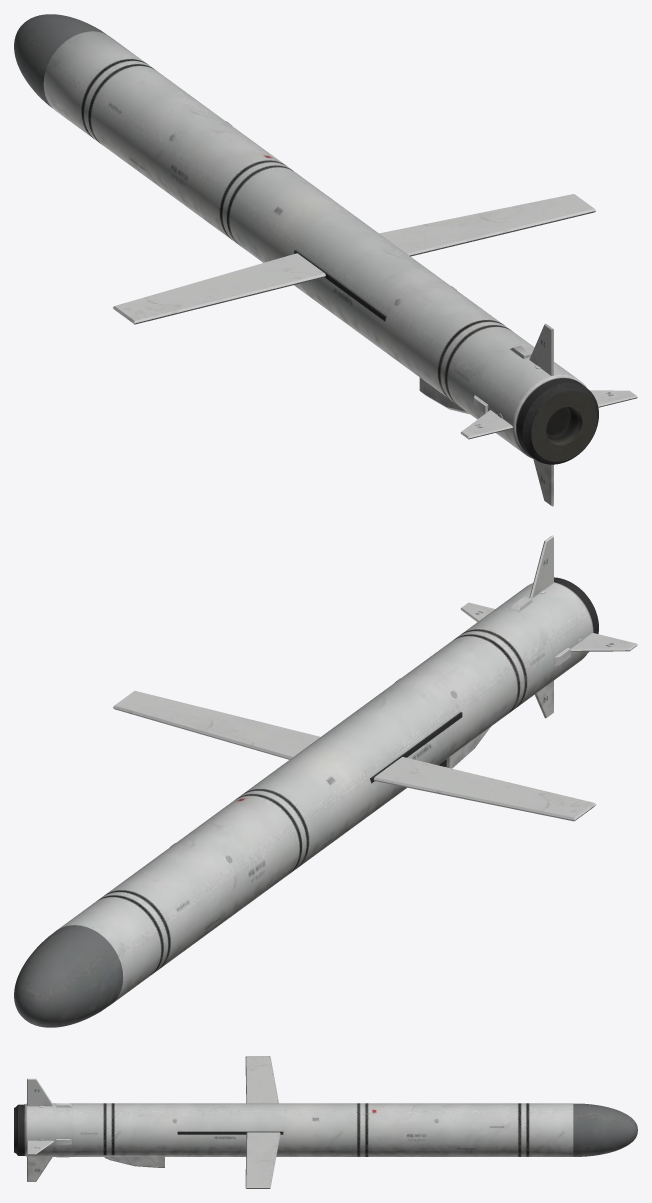
The model's file is kalibr.glb.
3 views of the same model, one above another, from view 1: azimuth 30°, elevation 25°; view 2: azimuth 150°, elevation 25°; view 3: azimuth 270°, elevation 25° (orthographic). The views are drawn at different scales.
Parts seen in each view (by area): view 1: body, wing_l, wing_r, radome, fin_1, fin_4; view 2: body, radome, wing_l, wing_r, fin_1, fin_4; view 3: body, radome, wing_r, wing_l, fin_1, intake, fin_3, fin_2.
Part boxes in pixels (x1,y1,x2,y2): body: (43, 31, 598, 464); wing_l: (113, 253, 325, 324); wing_r: (379, 194, 596, 256); radome: (14, 14, 106, 108); fin_1: (529, 323, 553, 375); fin_4: (460, 410, 512, 439); body: (56, 577, 598, 1005); radome: (14, 925, 123, 1027); wing_l: (373, 757, 596, 821); wing_r: (113, 690, 320, 759); fin_1: (529, 535, 553, 598); fin_4: (570, 633, 637, 651); body: (14, 1103, 573, 1157); radome: (573, 1103, 637, 1156); wing_r: (245, 1132, 280, 1188); wing_l: (245, 1056, 278, 1103); fin_1: (27, 1078, 53, 1106); intake: (104, 1157, 164, 1167); fin_3: (27, 1157, 52, 1181); fin_2: (27, 1140, 53, 1154).
Size of the model in its own units: 3.09 by 1.13 by 6.2.
Materials: 2 (2 with a texture image).
